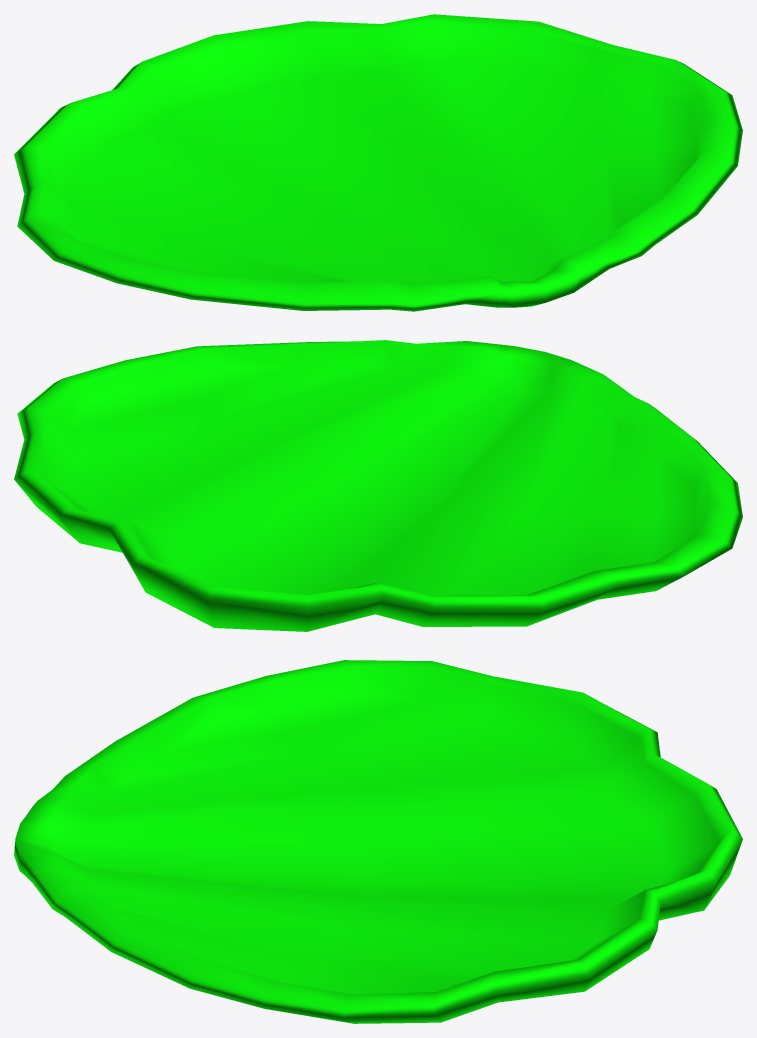
The model's file is Shell_2.fbx.
3 renders of one model, top to bottom at view 1: azimuth 30°, elevation 25°; view 2: azimuth 150°, elevation 25°; view 3: azimuth 270°, elevation 25°, orthographic. The views are drawn at different scales.
Parts seen in each view (by area): view 1: Shell_2; view 2: Shell_2; view 3: Shell_2.
Boxes of the visible parts, box(x1,y1,x2,y2) form: Shell_2: box(14, 14, 742, 311); Shell_2: box(14, 340, 742, 631); Shell_2: box(14, 660, 742, 1023).
Bounding box in the file's own units: 32.86 × 3.36 × 28.3.
